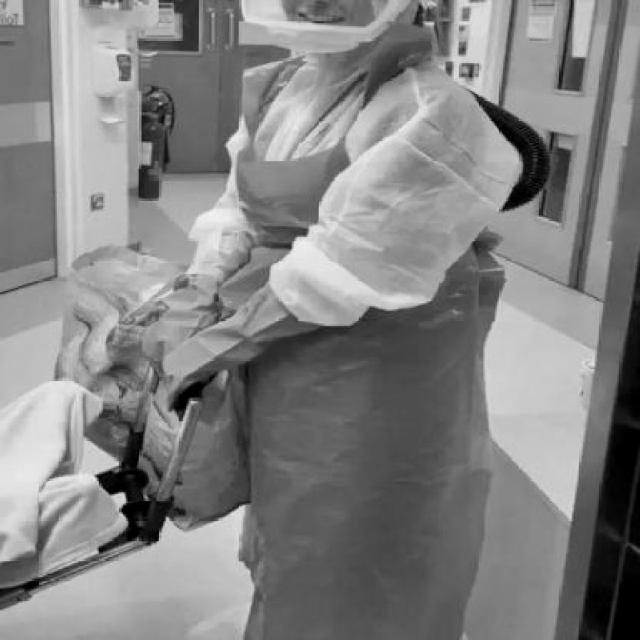hand_glove: (143, 315, 249, 397)
person: (139, 0, 586, 640)
